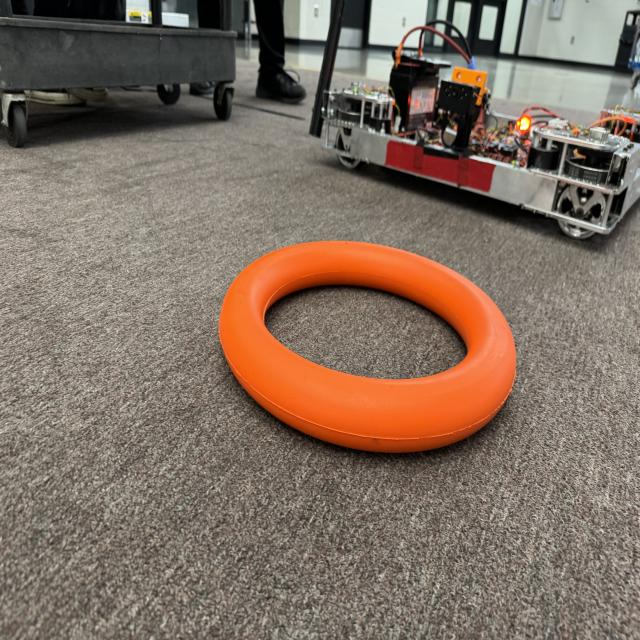note: (213, 221, 522, 474)
